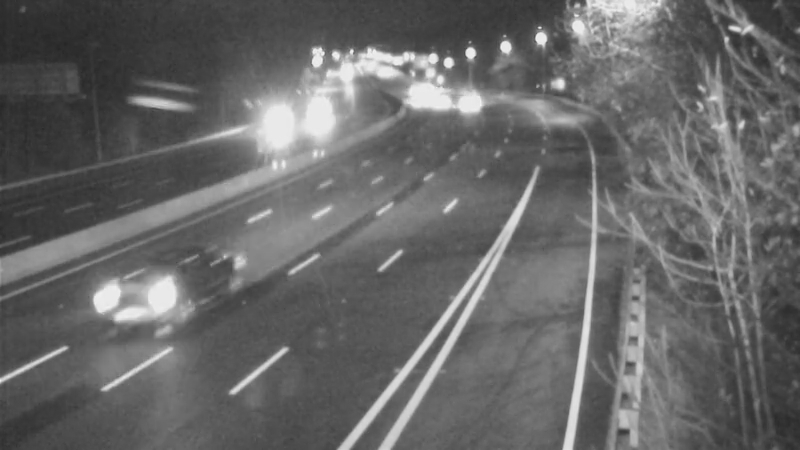vehicle: (98, 251, 178, 331), (416, 78, 466, 128), (395, 73, 445, 123), (438, 72, 488, 122), (253, 98, 303, 148), (296, 86, 346, 136)
